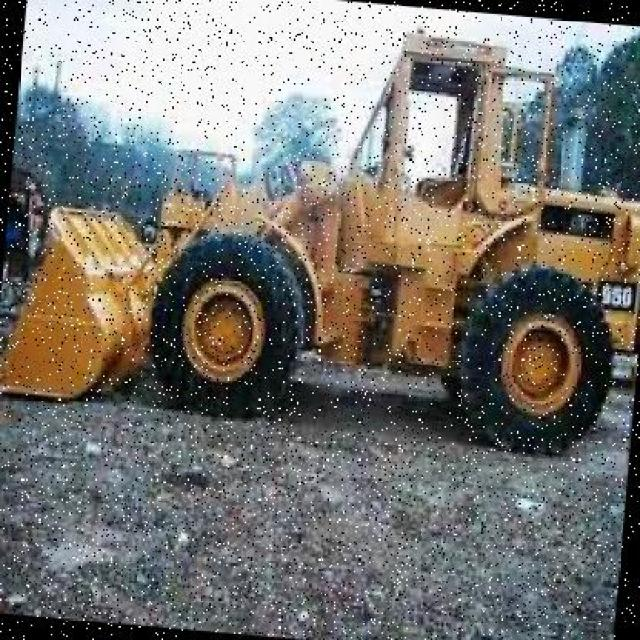buldozerpayloadergrader: (1, 0, 640, 469)
